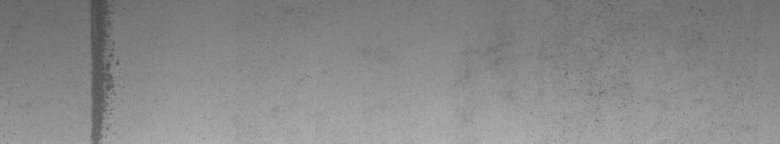hd: (85, 4, 125, 136)
